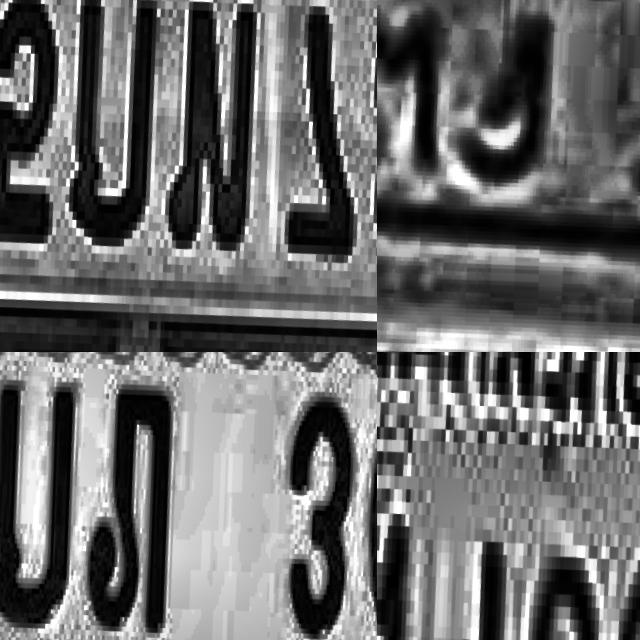license-plate: (0, 0, 377, 352), (0, 352, 377, 640), (377, 0, 640, 328), (377, 352, 640, 640)
